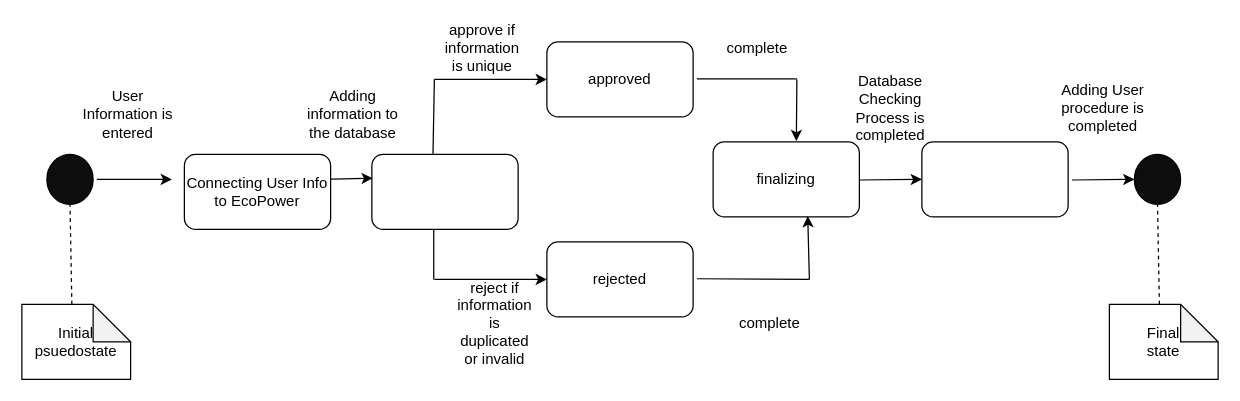
Image size: 1240x401. Some labels were removed from this diagram. The shapes that lost their labels are listed below. From the top down, each one's centre as x and y in pixels, then its label:
At [444,191]: "pending".
At [994,179]: "Send message to User about Status".
